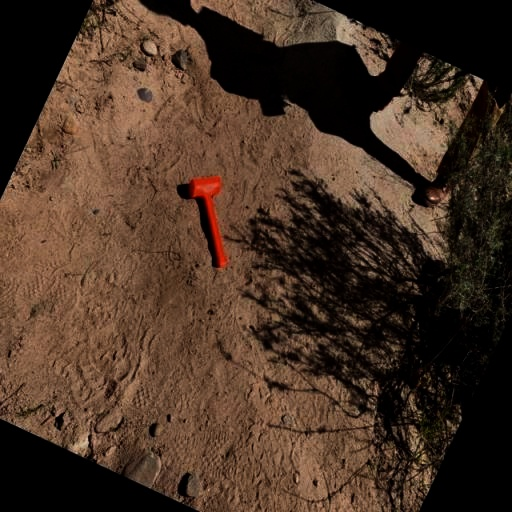mallet: (160, 166, 260, 272)
